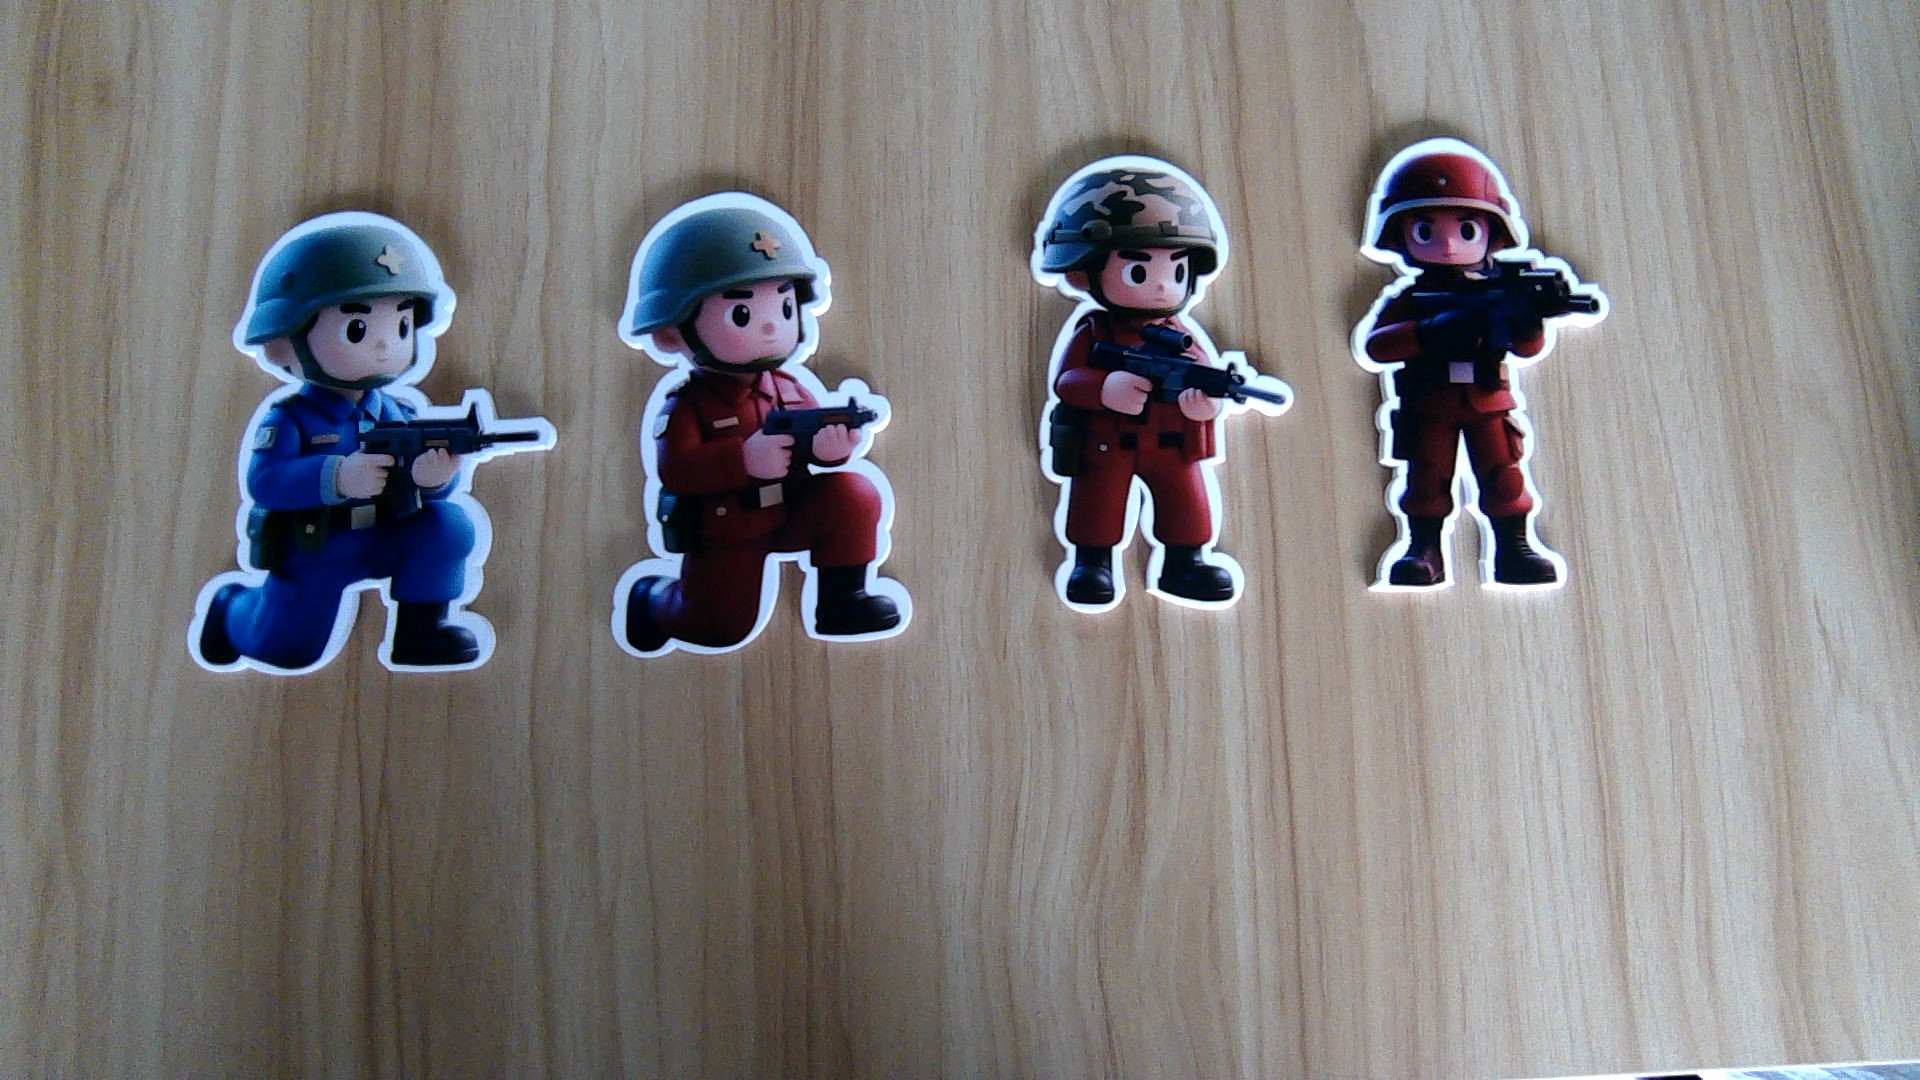敌人1: (605, 375, 920, 657), (1346, 270, 1610, 600), (1031, 320, 1292, 615)
敌人2: (179, 393, 556, 680)
